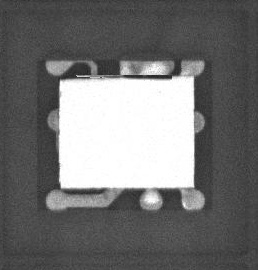DIE_BROKEN: (84, 72, 174, 81)
